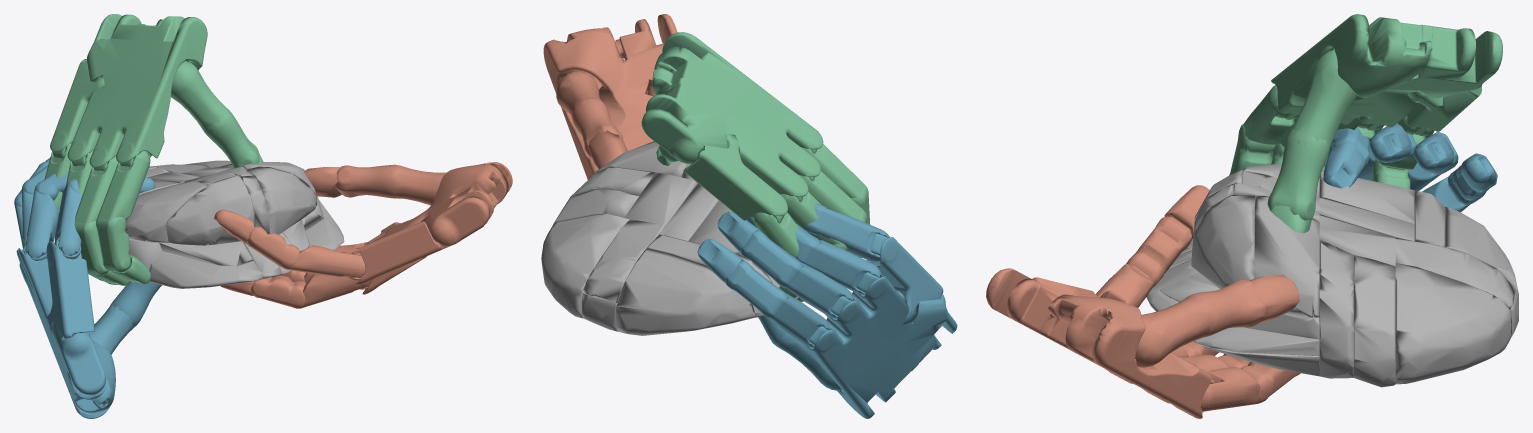
3 views of the same model, side by side, from view 1: azimuth 30°, elevation 25°; view 2: azimuth 150°, elevation 25°; view 3: azimuth 270°, elevation 25° (orthographic). The views are drawn at different scales.
Size of the model in its own units: 0.307 by 0.2469 by 0.2616.
